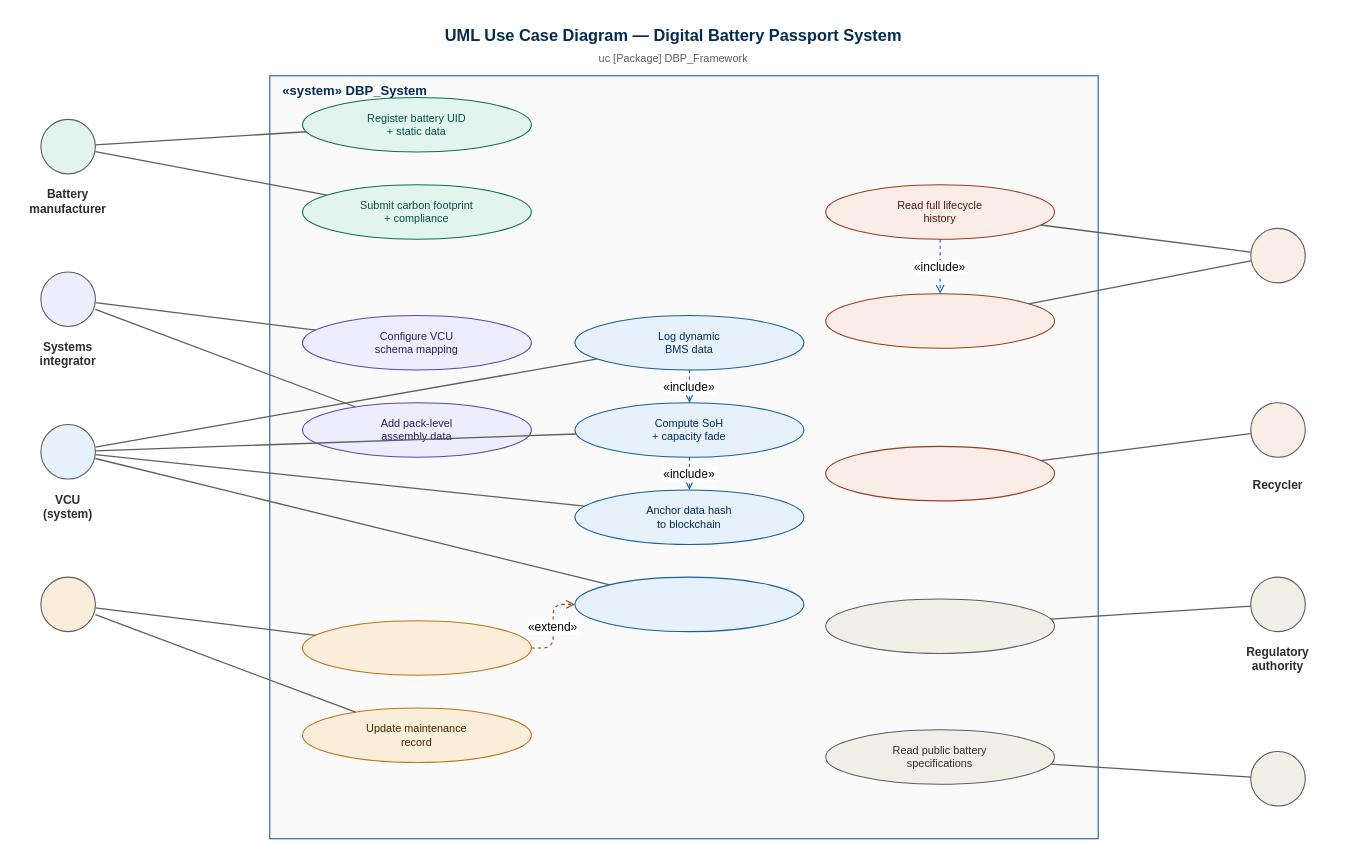
Image size: 1345x865. Some labels were removed from this diagram. The centre of each missing label's shape, as x and y in pixels:
"Access compliance + test reports" belongs at (x=940, y=625).
"General public" belongs at (x=1277, y=778).
"Manage lifecycle status transition" belongs at (x=689, y=604).
"Query passport (SoH · fault history)" belongs at (x=416, y=647).
"Read battery chemistry + dismantling" belongs at (x=940, y=473).
"Second-life operator" belongs at (x=1277, y=255).
"Verify SoH for 2nd-life suitability" belongs at (x=940, y=320).
"Workshop / service" belongs at (x=67, y=604).
